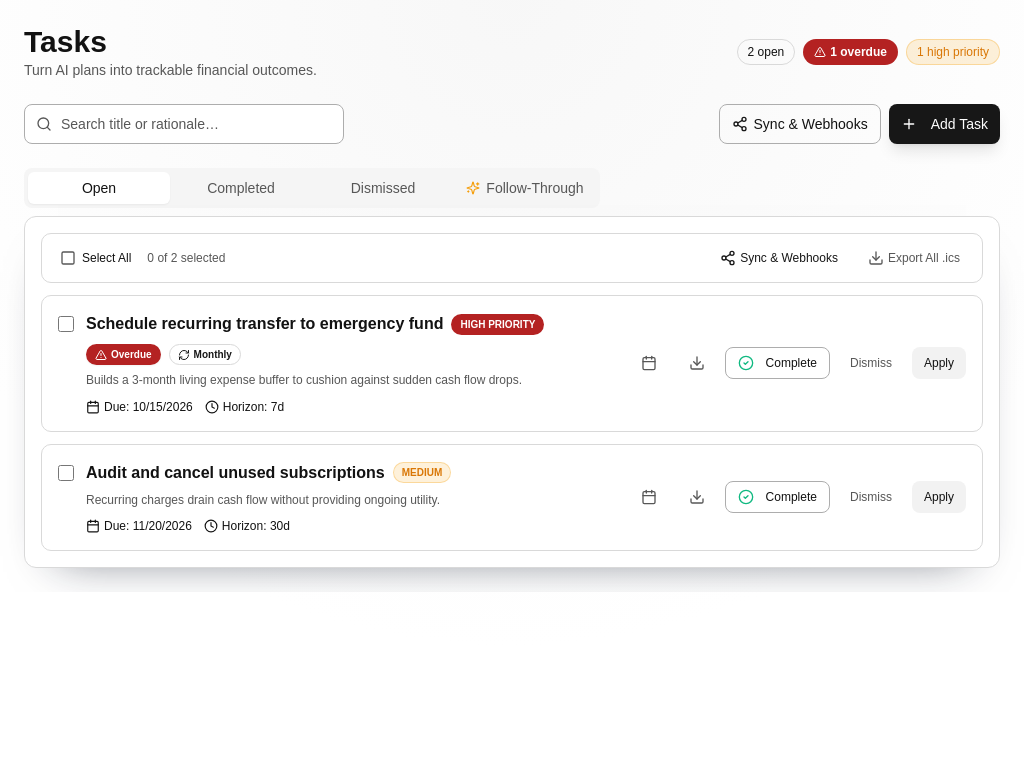
Test: TasksPage › filters tasks by keyword in search input
Expected: the text "Schedule recurring transfer to emergency fund" is shown, top-left (86, 312), bottom-right (443, 336)
Type "subscriptions" into the field with test id "input-search-tasks" at coordinates (184, 124), box top-left (24, 104), bottom-right (344, 144)
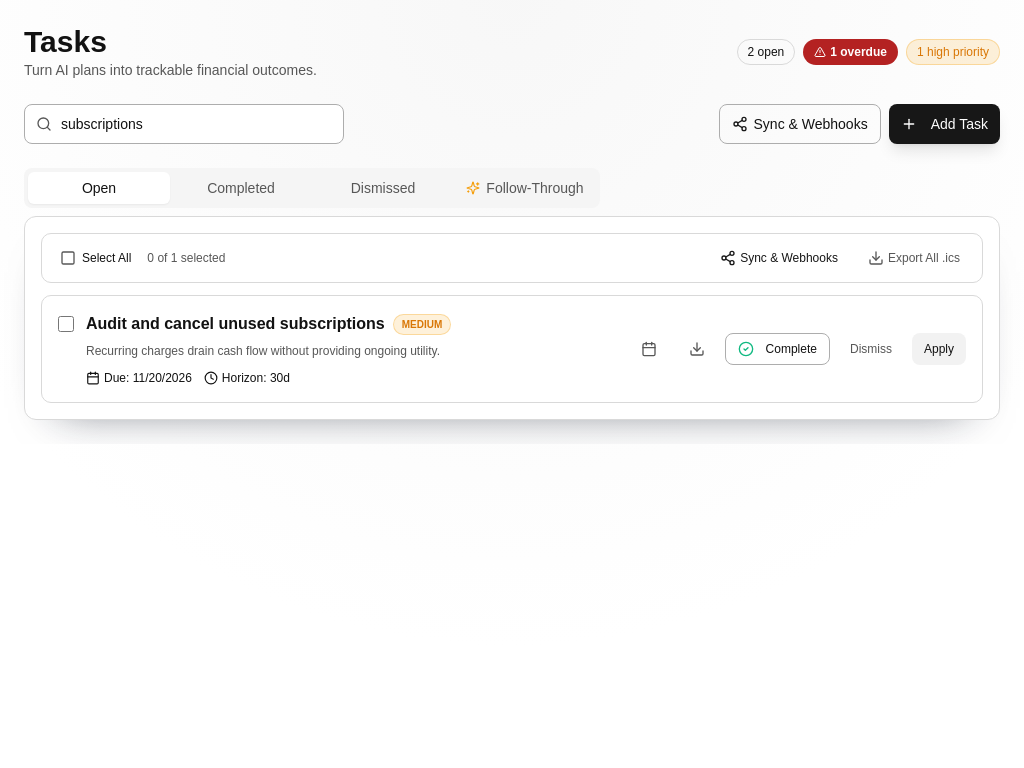
Expected: the text "Audit and cancel unused subscriptions" is shown, top-left (86, 312), bottom-right (385, 336)
Result: the button "Schedule recurring transfer to emergency fund" is gone
# Clear search
Clear the field with test id "input-search-tasks" at coordinates (184, 124), box top-left (24, 104), bottom-right (344, 144)
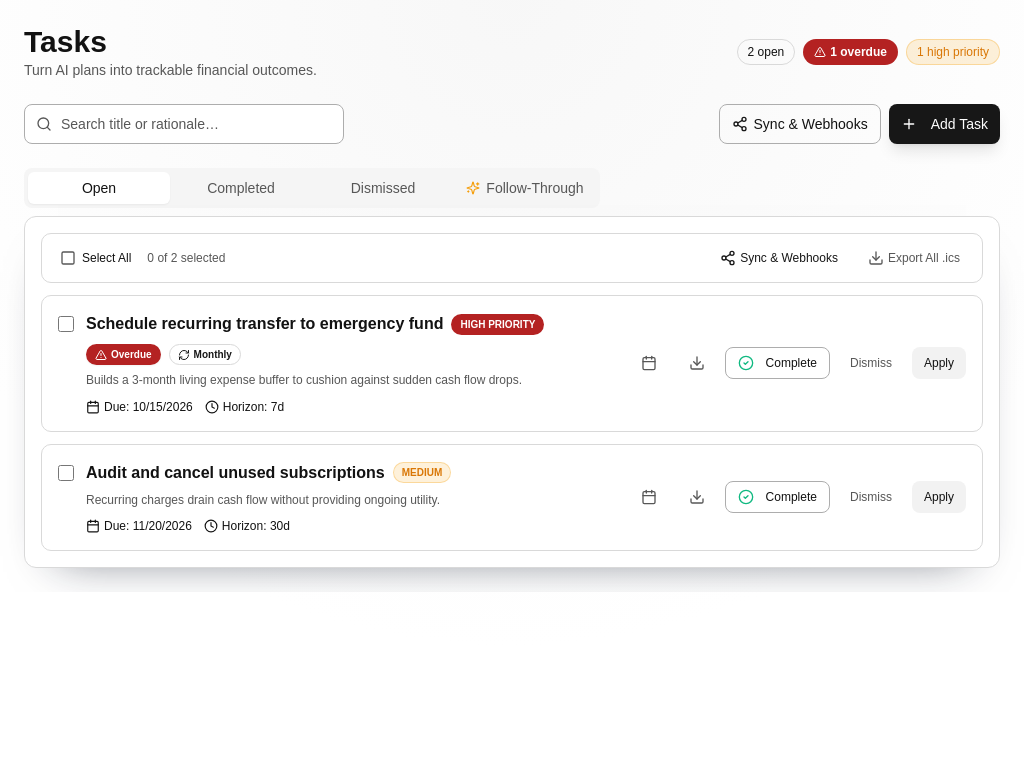
Result: the text "Schedule recurring transfer to emergency fund" is shown at top-left (86, 312), bottom-right (443, 336)
